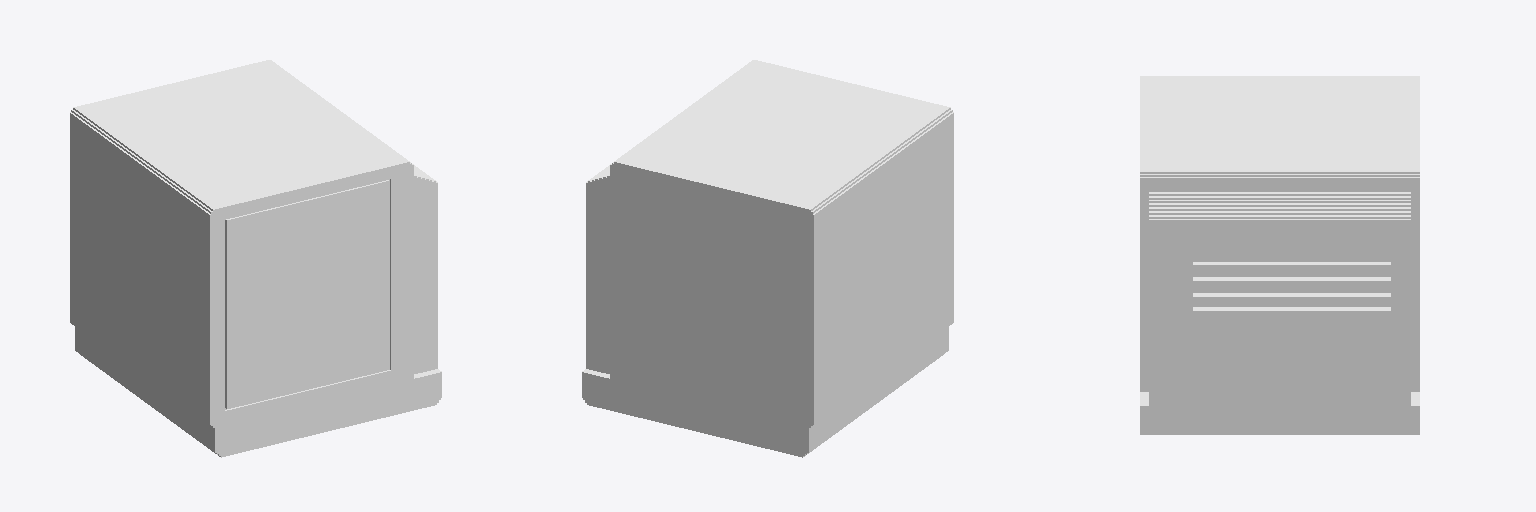
Rendered from MonitorCardiaco.obj.
3 views of the same model, side by side, from view 1: azimuth 30°, elevation 25°; view 2: azimuth 150°, elevation 25°; view 3: azimuth 270°, elevation 25° (orthographic).
Visible parts, largest first — view 1: object 1; view 2: object 1; view 3: object 1.
Boxes of the visible parts, <box> form: object 1: <box>70,60,441,457</box>; object 1: <box>582,60,953,457</box>; object 1: <box>1140,76,1419,434</box>.
Bounding box in the file's own units: 12.3 × 12.6 × 12.8.